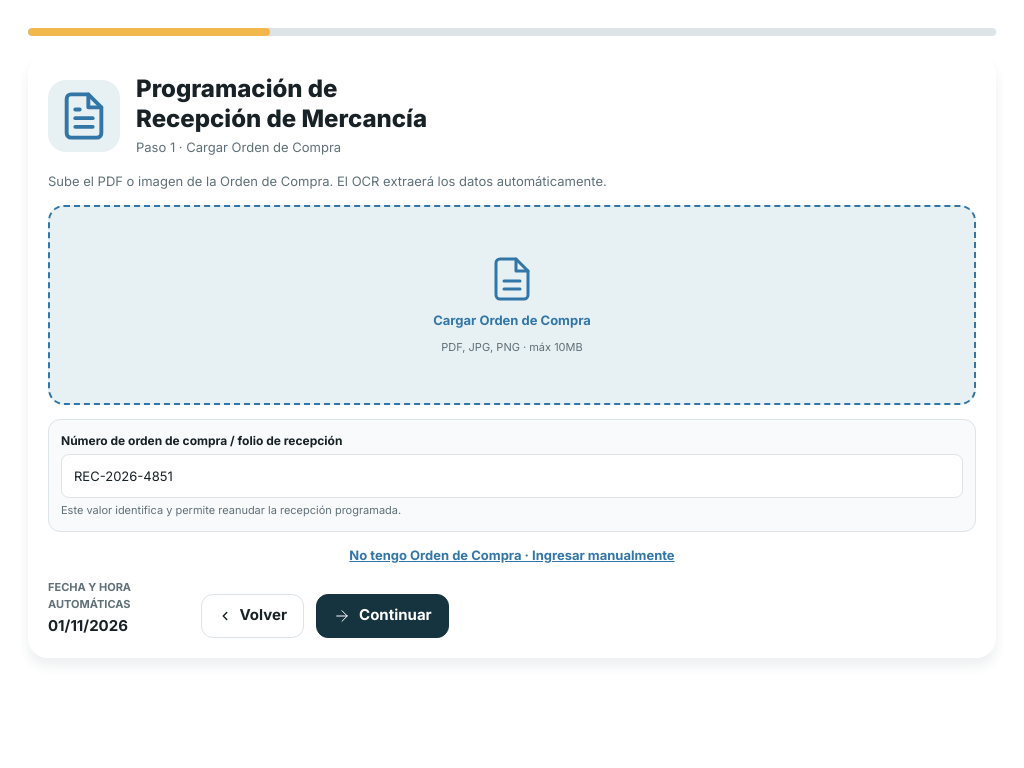
Test: ProgramacionRecepcion controlled inputs › persists logistics selection when entering no-OC mode and advancing
Click the button "No tengo Orden de Compra · Ingresar manualmente". click: (512, 555)
box: [48, 546, 976, 565]
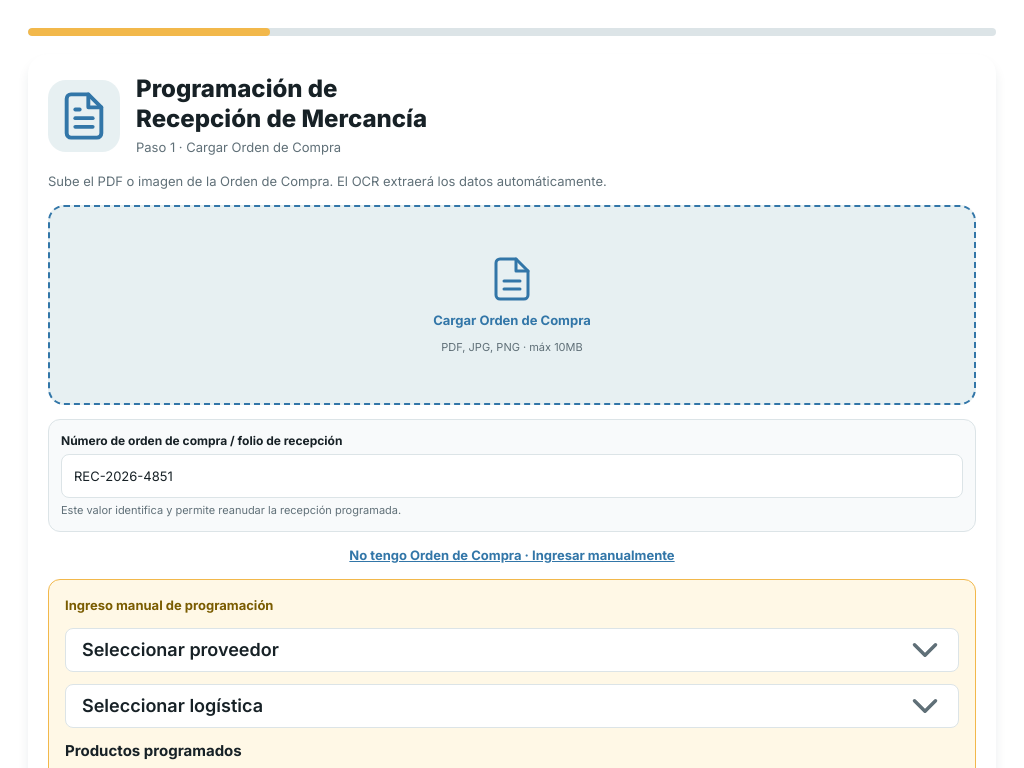
Select "Logística Remota" in the dropdown named "Proveedor logístico". click: (512, 706)
box: [65, 684, 959, 728]
(page scrolled)
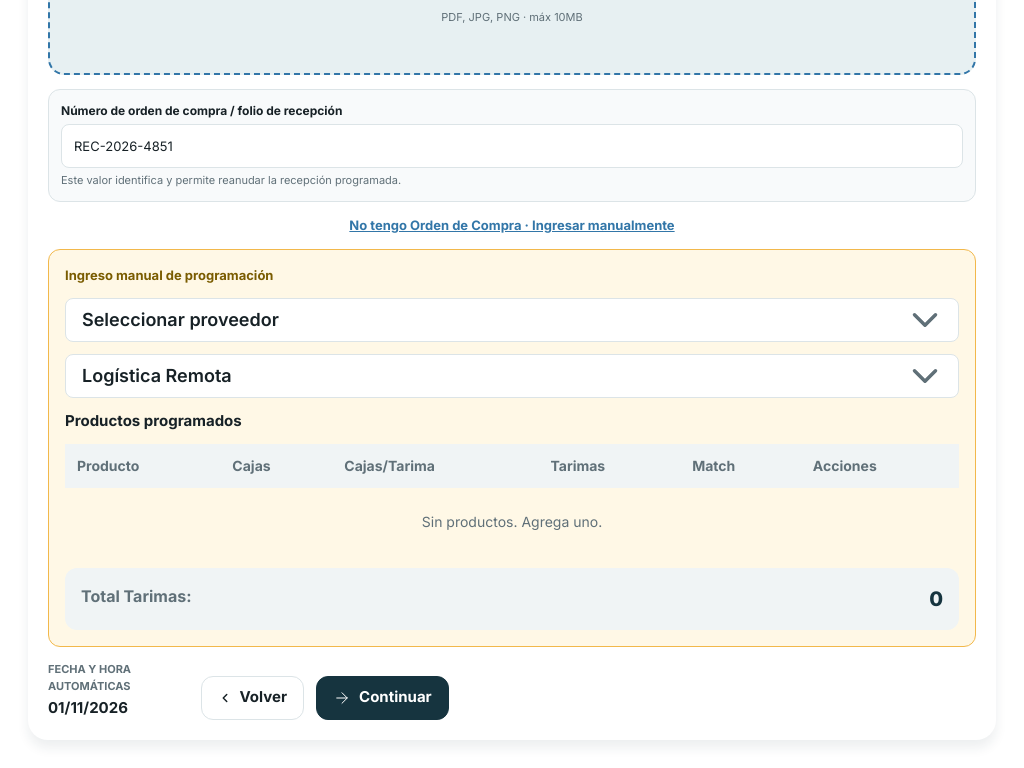
Click the button "Continuar". click: (382, 698)
box: [316, 676, 449, 720]
(page scrolled)
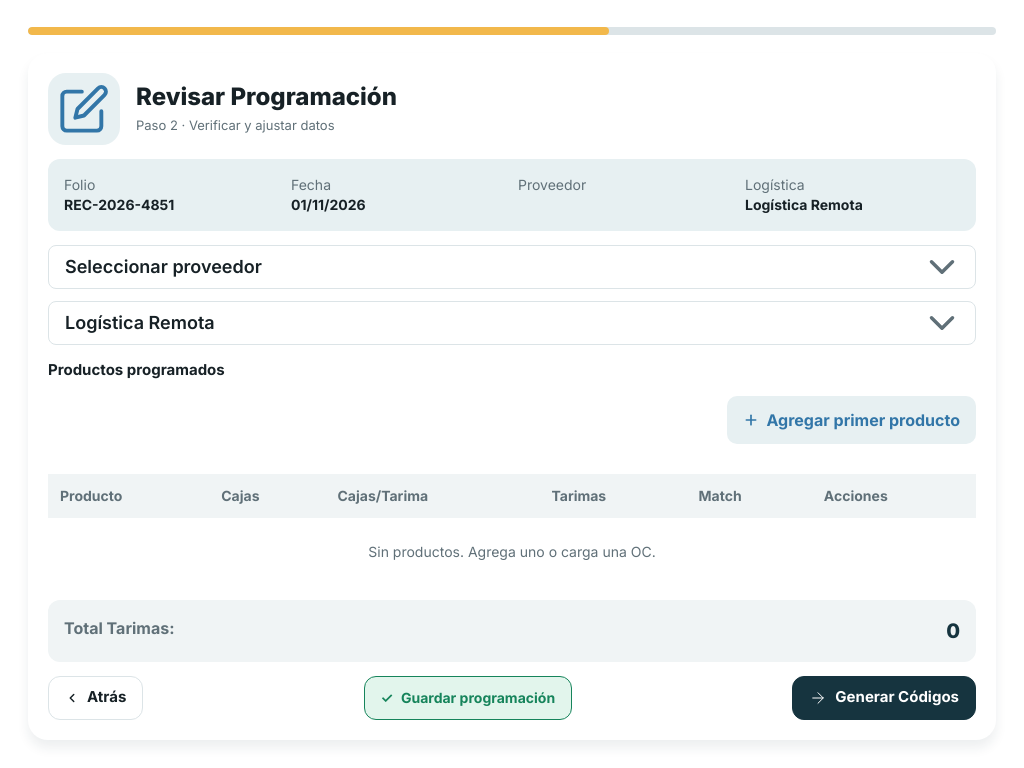
Expected: the dropdown named "Proveedor logístico" shows "Logística Remota", [48, 301, 976, 345]
